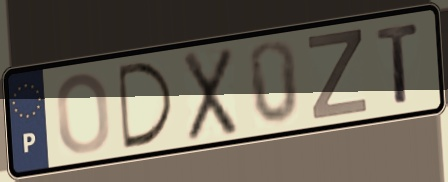0: (246, 38, 302, 130)
D: (113, 58, 177, 153)
O: (54, 69, 113, 157)
T: (373, 20, 422, 107)
X: (180, 44, 240, 146)
Z: (305, 27, 371, 124)
